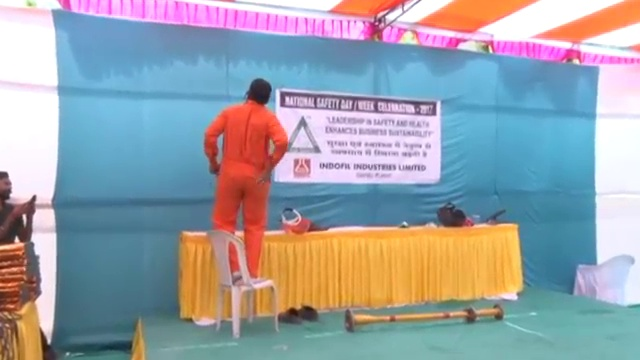helmet_off: (243, 76, 273, 109), (1, 170, 14, 201)
person: (204, 77, 288, 290), (1, 169, 43, 245)
